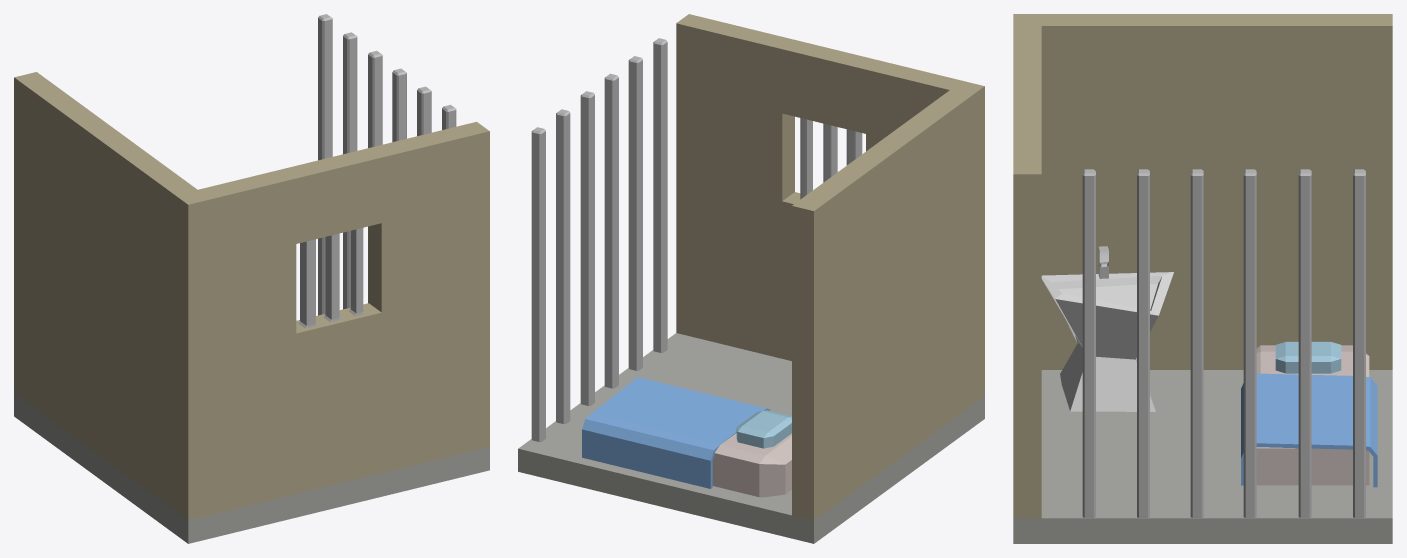
The model's file is prsion.fbx.
The picture shows the model from 3 angles, left to right: view 1: azimuth 30°, elevation 25°; view 2: azimuth 150°, elevation 25°; view 3: azimuth 270°, elevation 25°; orthographic projection. The views are drawn at different scales.
Parts seen in each view (by area): view 1: wall2, wall1, floor, Window_Balusters, s6, s5, s4, s3, s2; view 2: wall1, wall2, floor, bedd, s3, s2, s4, s1, s6, s5, bed, Window_Balusters (+1 smaller); view 3: wall1, floor, wall2, washer, bedd, s1, s3, s4, s5, bed, s2, s6 (+2 smaller).
Part boxes in pixels (bbox=[...]): wall2: bbox=[175, 121, 489, 514]; wall1: bbox=[14, 72, 210, 520]; floor: bbox=[14, 393, 489, 543]; Window_Balusters: bbox=[298, 228, 364, 328]; s6: bbox=[318, 14, 332, 315]; s5: bbox=[343, 32, 357, 309]; s4: bbox=[368, 50, 382, 303]; s3: bbox=[392, 68, 406, 142]; s2: bbox=[417, 86, 431, 136]; wall1: bbox=[792, 81, 984, 520]; wall2: bbox=[676, 14, 984, 360]; floor: bbox=[518, 333, 984, 543]; bedd: bbox=[582, 377, 770, 488]; s3: bbox=[604, 73, 618, 388]; s2: bbox=[628, 56, 642, 370]; s4: bbox=[580, 91, 594, 405]; s1: bbox=[653, 38, 667, 352]; s6: bbox=[531, 127, 545, 441]; s5: bbox=[556, 109, 570, 423]; bed: bbox=[712, 433, 791, 497]; Window_Balusters: bbox=[800, 118, 862, 199]; wall1: bbox=[1013, 14, 1392, 369]; floor: bbox=[1013, 370, 1392, 543]; wall2: bbox=[1013, 26, 1041, 518]; washer: bbox=[1041, 272, 1173, 411]; bedd: bbox=[1241, 373, 1377, 487]; s1: bbox=[1082, 169, 1095, 517]; s3: bbox=[1190, 169, 1203, 517]; s4: bbox=[1243, 169, 1256, 517]; s5: bbox=[1298, 169, 1311, 517]; bed: bbox=[1256, 345, 1369, 485]; s2: bbox=[1137, 169, 1149, 517]; s6: bbox=[1353, 169, 1365, 517].
Size of the model in its own units: 200 by 215 by 200.
